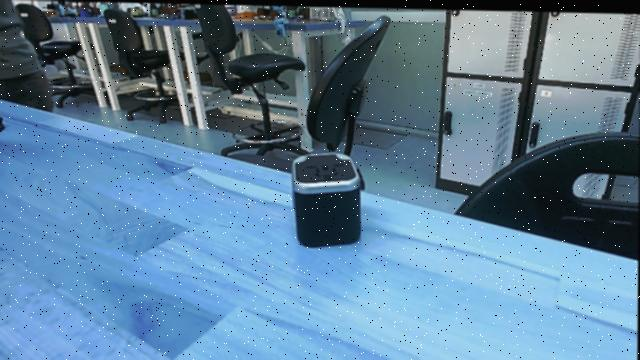adapter: (286, 145, 366, 249)
